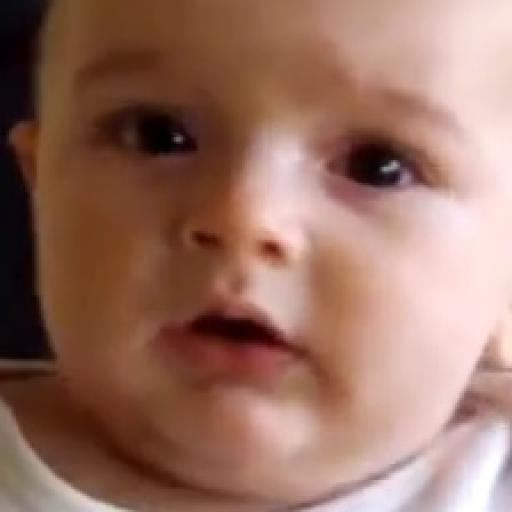Autism: (41, 0, 505, 512)
